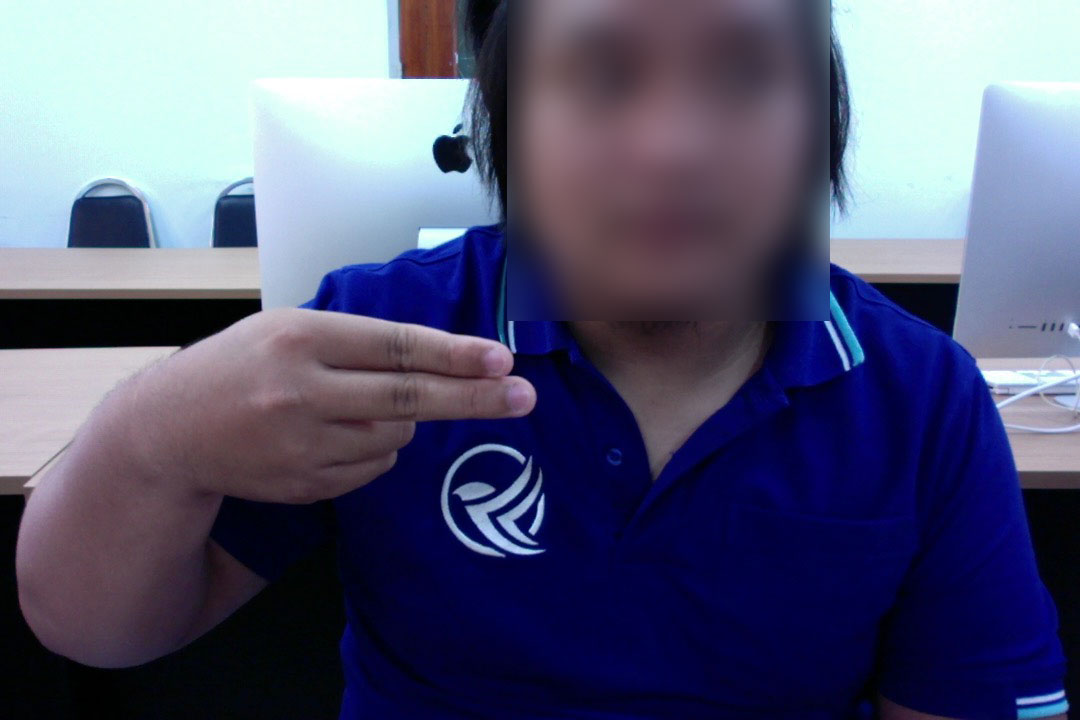hor: (108, 301, 542, 511)
